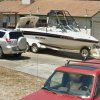Boat: (17, 7, 95, 60)
